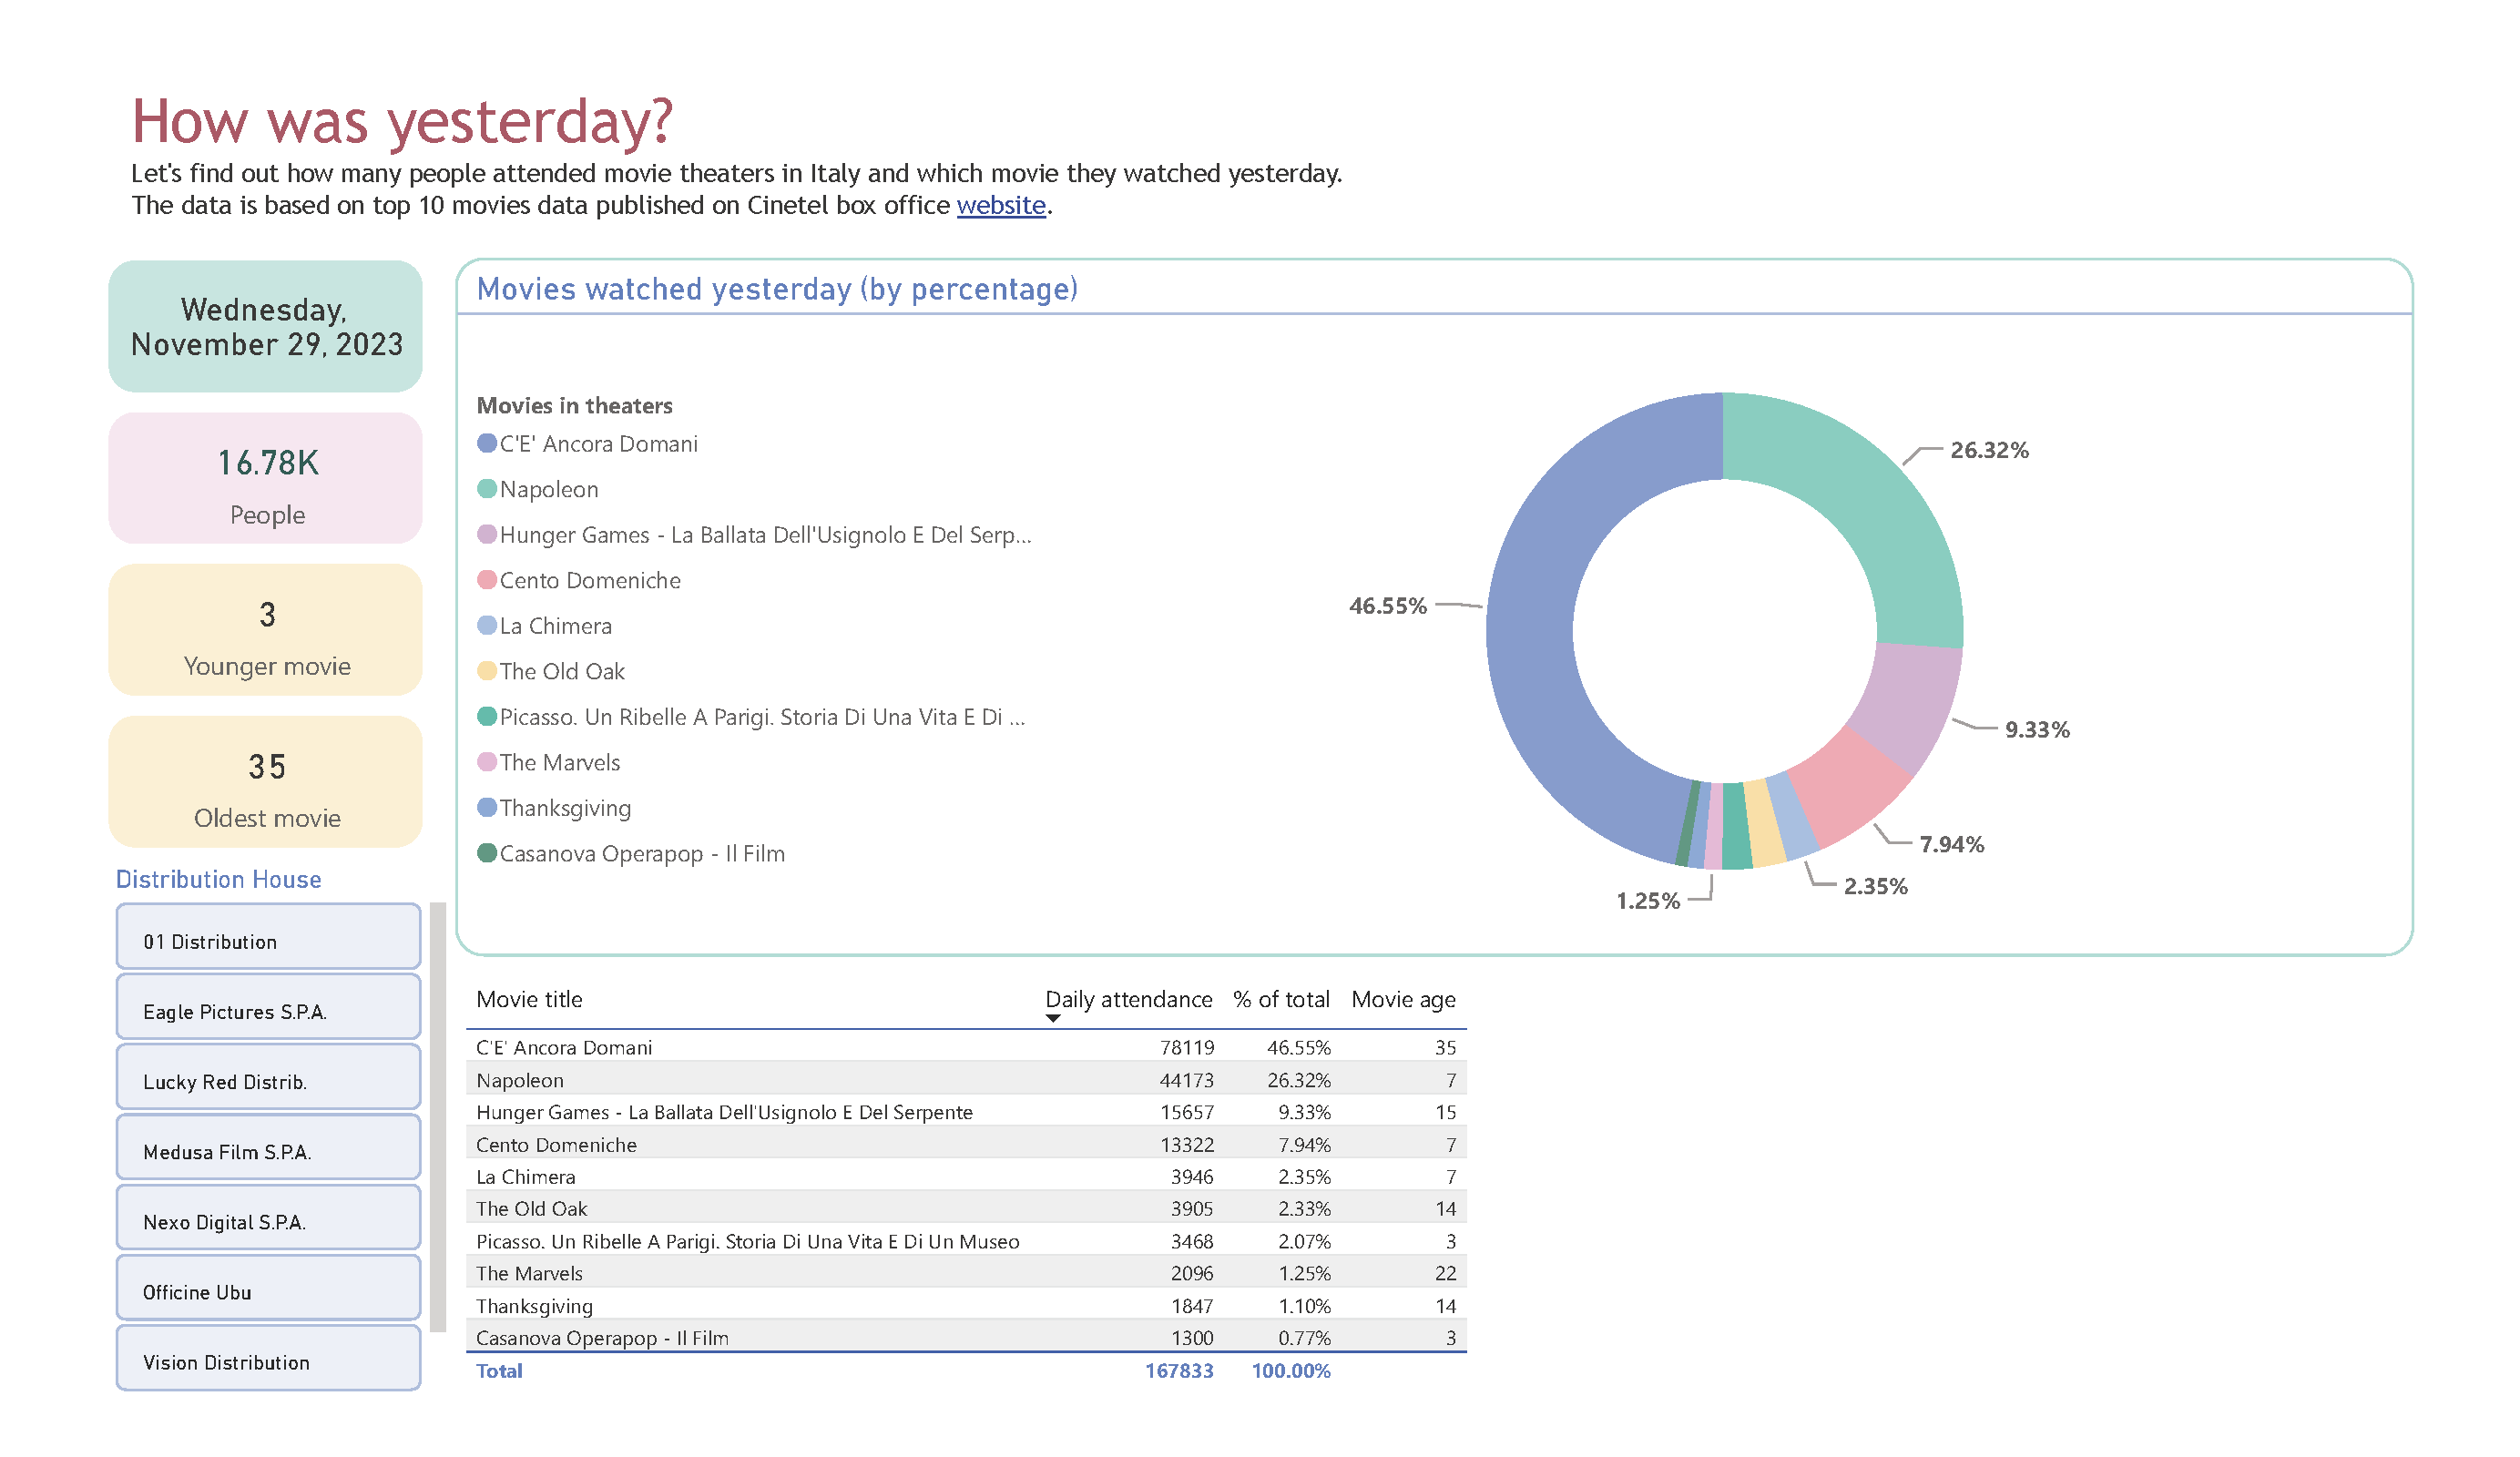

The page's visual inventory and layout, read from the dashboard file:
{"tool":"powerbi","page":{"name":"Yesterday data","canvas":[1280,720],"ordinal":0},"visuals":[{"type":"textbox","box":[40,16,752,96],"z":0},{"type":"tableEx","fields":{"Values":["cinetel_clean (2).title","cinetel_clean (2).daily_attendance","Sum(cinetel_clean (2).daily_attendance)","cinetel_clean (2).screening_days"]},"box":[216,488,552,232],"z":1000},{"type":"donutChart","title":"Movies watched yesterday (by percentage)","fields":{"Category":["cinetel_clean (2).title"],"Y":["Avg(cinetel_clean (2).daily_attendance)"]},"box":[216,112,1032,368],"z":2000},{"type":"card","fields":{"Values":["Min(cinetel_clean (2).date)"]},"box":[32,112,168,72],"z":3000},{"type":"card","fields":{"Values":["Sum(cinetel_clean (2).daily_attendance)"]},"box":[32,192,168,72],"z":4000},{"type":"card","fields":{"Values":["Max(cinetel_clean (2).screening_days)"]},"box":[32,352,168,72],"z":5000},{"type":"card","fields":{"Values":["Min(cinetel_clean (2).screening_days)"]},"box":[32,272,168,72],"z":6000},{"type":"advancedSlicerVisual","fields":{"Values":["cinetel_clean (2).distribution"]},"box":[32,432,184,288],"z":7000},{"type":"textbox","title":"Context","box":[768,512,480,184],"z":8000}]}

Visuals, with their boxes in screenshot pixels (x1, y1, x2, y2):
textbox: select_region(121, 76, 1548, 258)
tableEx - cinetel_clean (2).title x cinetel_clean (2).daily_attendance: select_region(455, 972, 1503, 1411)
"Movies watched yesterday (by percentage)" donutChart: select_region(455, 258, 2413, 956)
card - Min(cinetel_clean (2).date): select_region(107, 258, 425, 394)
card - Sum(cinetel_clean (2).daily_attendance): select_region(107, 410, 425, 546)
card - Max(cinetel_clean (2).screening_days): select_region(107, 713, 425, 850)
card - Min(cinetel_clean (2).screening_days): select_region(107, 562, 425, 698)
advancedSlicerVisual - cinetel_clean (2).distribution: select_region(107, 865, 455, 1411)
"Context" textbox: select_region(1503, 1017, 2413, 1366)
